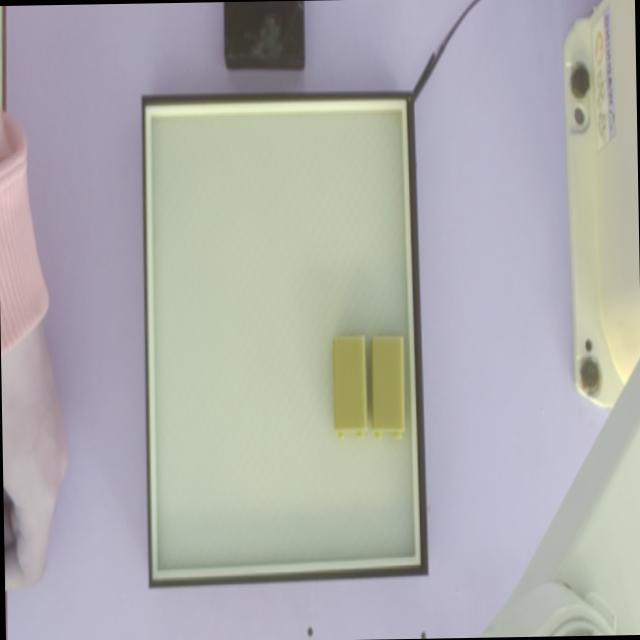bateria: (333, 335, 368, 437), (370, 335, 404, 436)
mesa: (142, 90, 429, 590)
